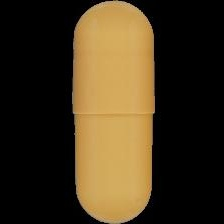60429-127: (0, 0, 224, 224)
